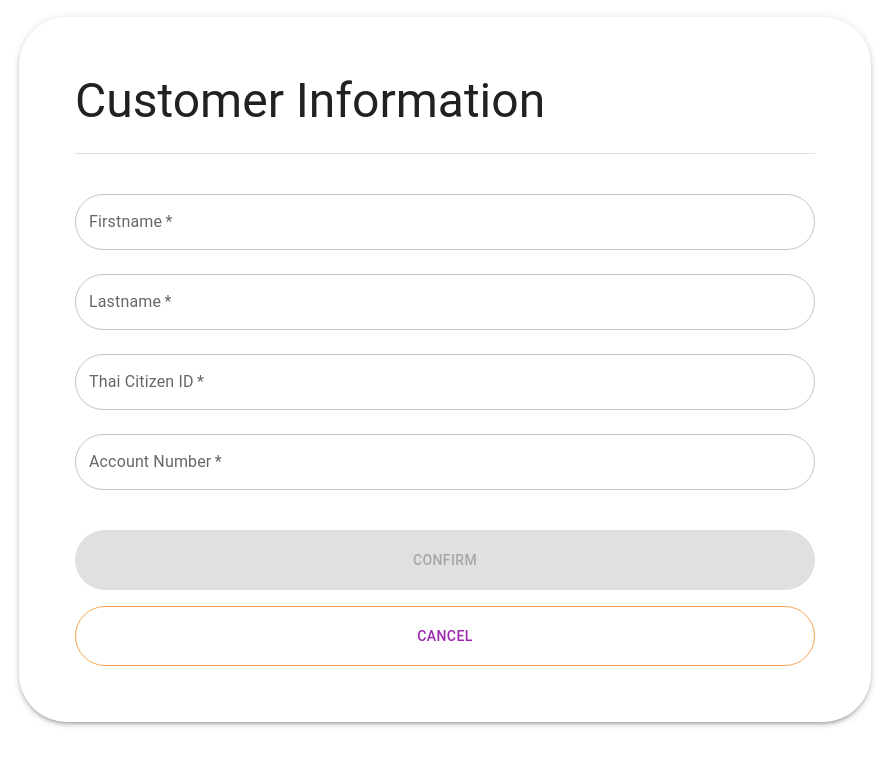
Scenario: CustomerInfo Page › shows validation error for invalid account number
Type "123" into the field labelled "Account Number *" at x=445, y=462, box [91,434,799,490]
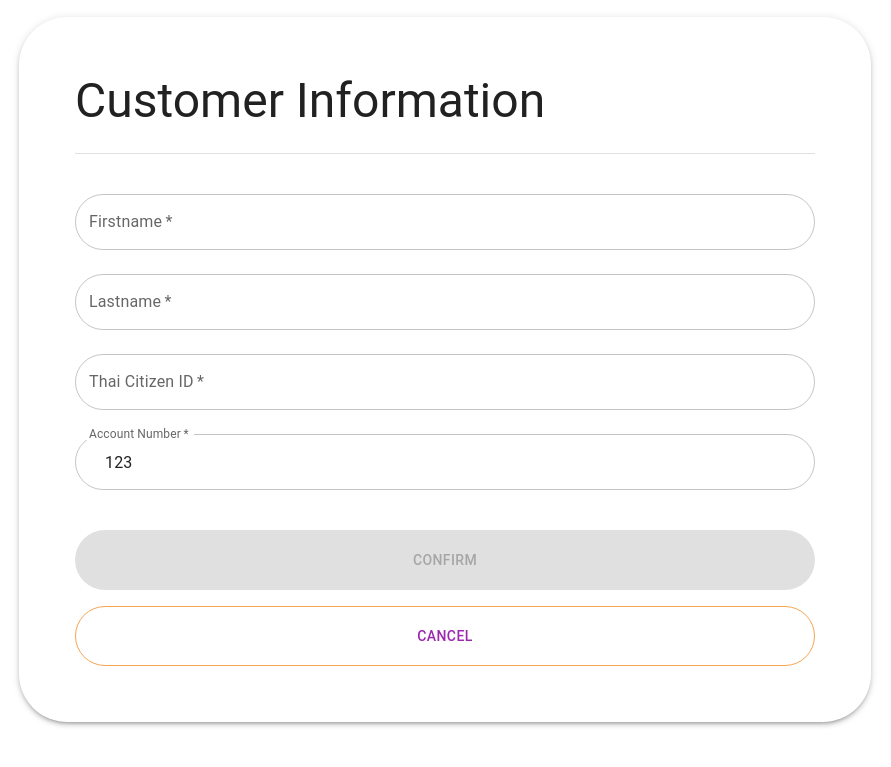
Leave the field labelled "Account Number *", box [91,434,799,490]
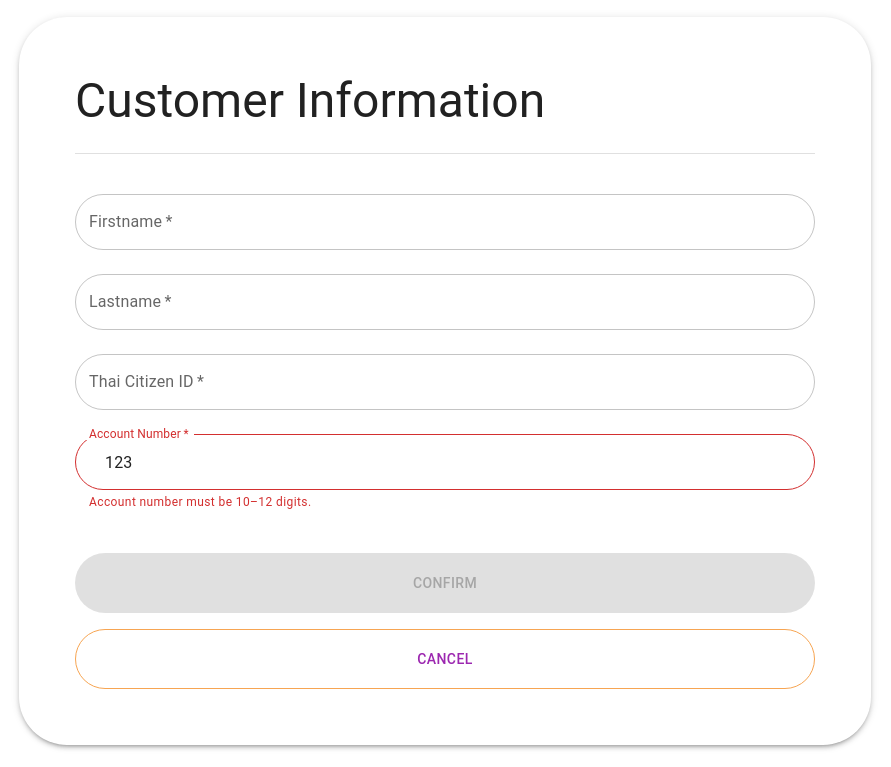
Check: the text "Account number must be 10–12 digits." is shown, box [89,495,312,509]
